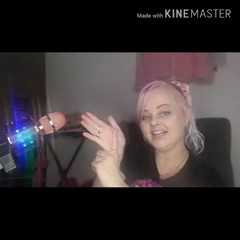L: (78, 108, 129, 187)
